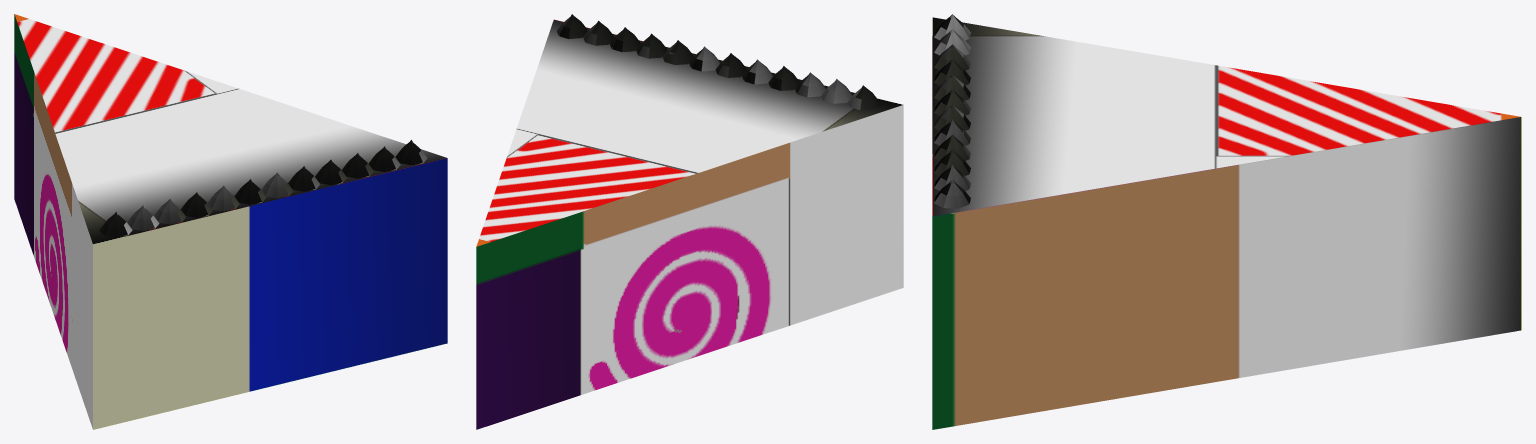
The model's file is slice of cake mp.fbx.
3 views of the same model, side by side, from view 1: azimuth 30°, elevation 25°; view 2: azimuth 150°, elevation 25°; view 3: azimuth 270°, elevation 25° (orthographic). The views are drawn at different scales.
Parts seen in each view (by area): view 1: slice_of_cake_mp; view 2: slice_of_cake_mp; view 3: slice_of_cake_mp.
Boxes of the visible parts, x1=… form: slice_of_cake_mp: x1=14, y1=14, x2=447, y2=429; slice_of_cake_mp: x1=476, y1=14, x2=903, y2=429; slice_of_cake_mp: x1=932, y1=14, x2=1521, y2=429.
Size of the model in its own units: 4 by 2.2 by 5.
